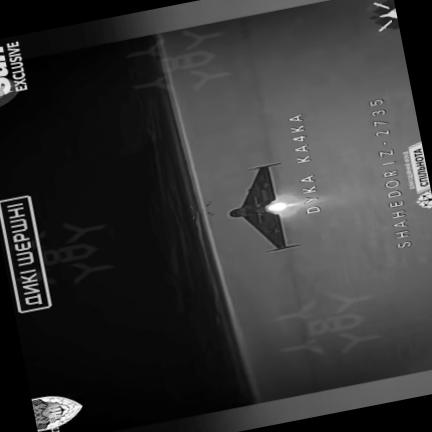Shahed: (229, 165, 298, 249)
